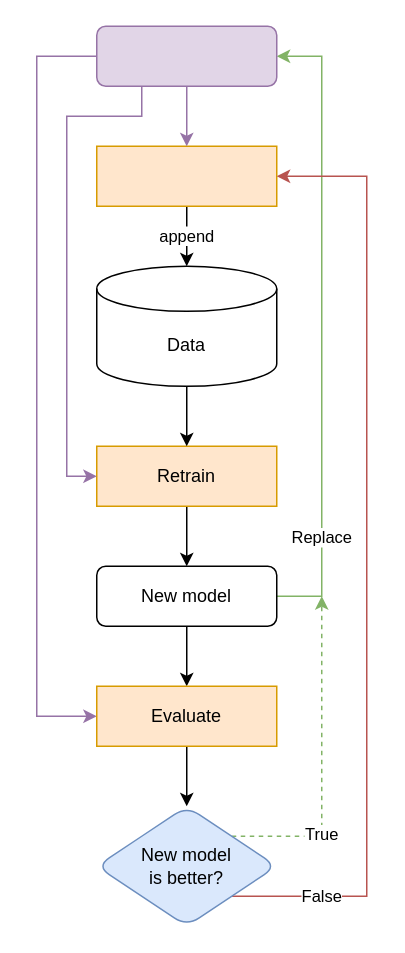
Image size: 405x953. Some labels were removed from this diagram. The shapes that lost their labels are listed below. From the top down, each one's box as (x1, y1, x2, y2) in pixels, then its label:
(95, 25, 277, 86): Current best model (initially randomized)
(95, 145, 277, 206): Self-play
